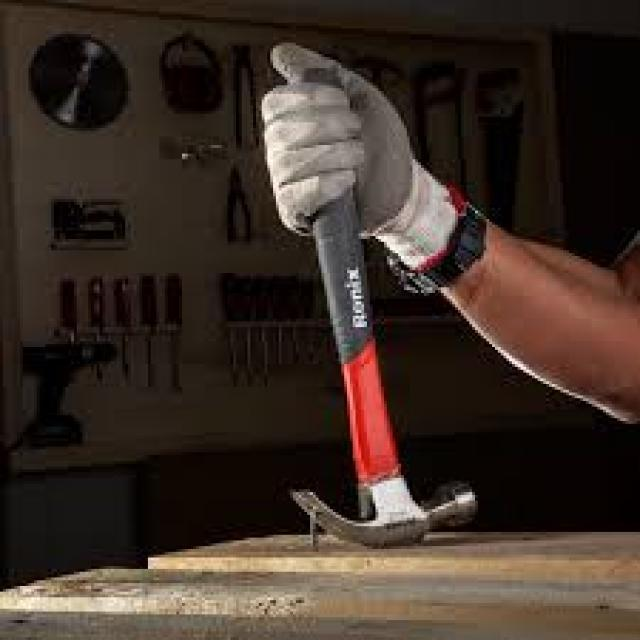hammer: (263, 62, 488, 552)
